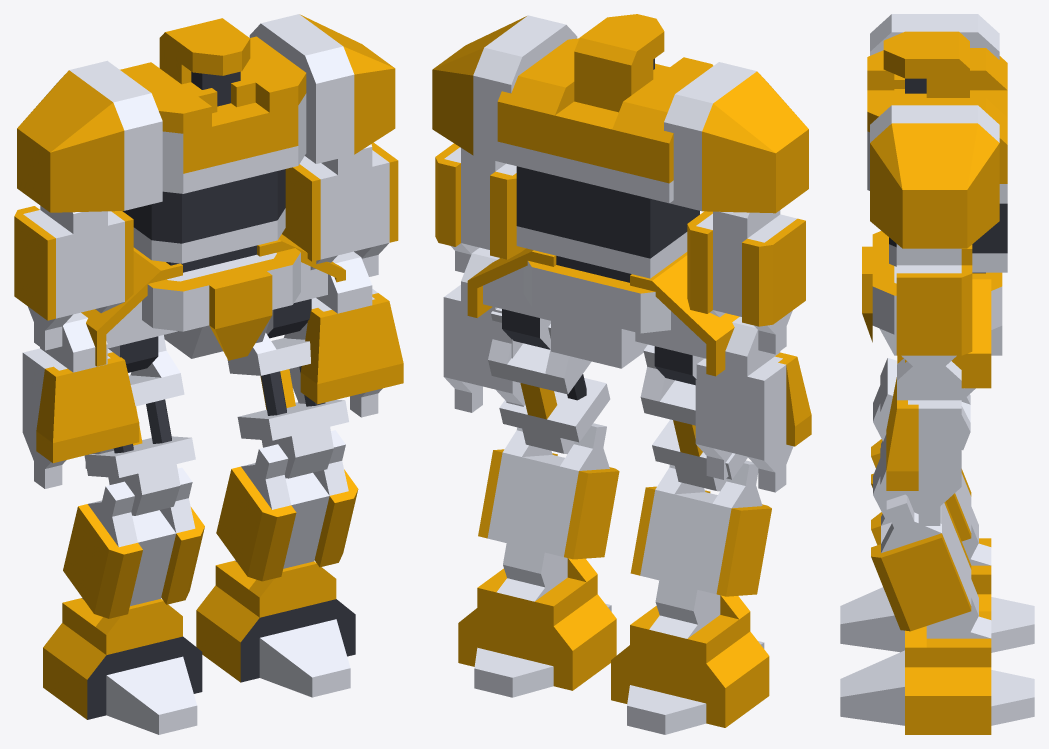
The model's file is Robot v1.fbx.
3 views of the same model, side by side, from view 1: azimuth 30°, elevation 25°; view 2: azimuth 150°, elevation 25°; view 3: azimuth 270°, elevation 25° (orthographic). The views are drawn at different scales.
Parts seen in each view (by area): view 1: leg_cover (×4), shoulder_angle (×2), chest_body, leg_padding (×2), foot_default (×2), leg_pipes (×2), pelvis_shield, foot_topAngle (×2), pelvis_jointSlant (×2), head_knight; view 2: leg_cover (×4), chest_body, shoulder_angle (×2), foot_default (×2), leg_padding (×2), leg_pipes (×2), pelvis_jointSlant (×2), pelvis_shield, foot_topAngle (×2), head_knight; view 3: leg_cover (×3), shoulder_angle (×2), foot_default (×2), leg_padding, chest_body, head_knight, foot_topAngle (×2), pelvis_shield, pelvis_jointSlant, leg_pipes (×2).
Part boxes in pixels (bbox=[...]): leg_cover (×4): bbox=[14, 142, 398, 618]; shoulder_angle (×2): bbox=[17, 14, 395, 212]; chest_body: bbox=[120, 36, 306, 272]; leg_padding (×2): bbox=[22, 251, 403, 488]; foot_default (×2): bbox=[43, 585, 355, 734]; leg_pipes (×2): bbox=[84, 333, 348, 515]; pelvis_shield: bbox=[142, 248, 300, 360]; foot_topAngle (×2): bbox=[62, 560, 336, 654]; pelvis_jointSlant (×2): bbox=[81, 234, 345, 372]; head_knight: bbox=[159, 18, 255, 113]; leg_cover (×4): bbox=[435, 143, 805, 629]; chest_body: bbox=[497, 38, 713, 282]; shoulder_angle (×2): bbox=[432, 15, 808, 213]; foot_default (×2): bbox=[458, 594, 769, 734]; leg_padding (×2): bbox=[443, 247, 811, 492]; leg_pipes (×2): bbox=[488, 311, 747, 491]; pelvis_jointSlant (×2): bbox=[467, 248, 739, 385]; pelvis_shield: bbox=[523, 261, 670, 368]; foot_topAngle (×2): bbox=[477, 558, 750, 663]; head_knight: bbox=[574, 14, 669, 112]; leg_cover (×3): bbox=[871, 244, 978, 638]; shoulder_angle (×2): bbox=[870, 14, 999, 248]; foot_default (×2): bbox=[840, 587, 1034, 734]; leg_padding: bbox=[886, 358, 961, 525]; chest_body: bbox=[867, 48, 1007, 273]; head_knight: bbox=[883, 31, 969, 97]; foot_topAngle (×2): bbox=[905, 538, 991, 667]; pelvis_shield: bbox=[862, 231, 1002, 355]; pelvis_jointSlant: bbox=[905, 272, 991, 400]; leg_pipes (×2): bbox=[873, 357, 970, 521].
Size of the model in its own units: 10.8 by 19.2 by 5.4.
